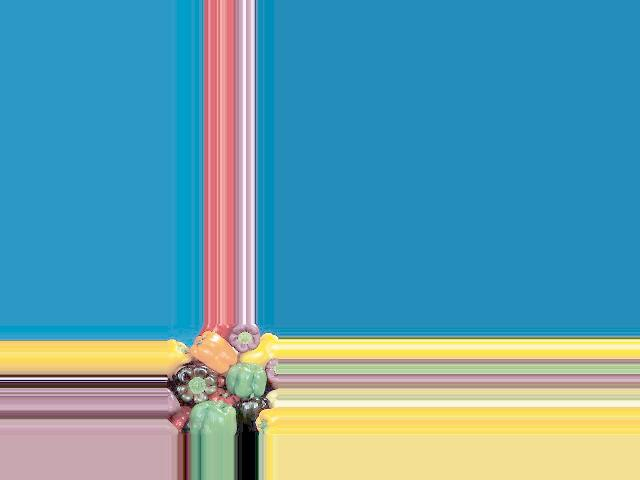bell_pepper: (187, 404, 235, 436)
